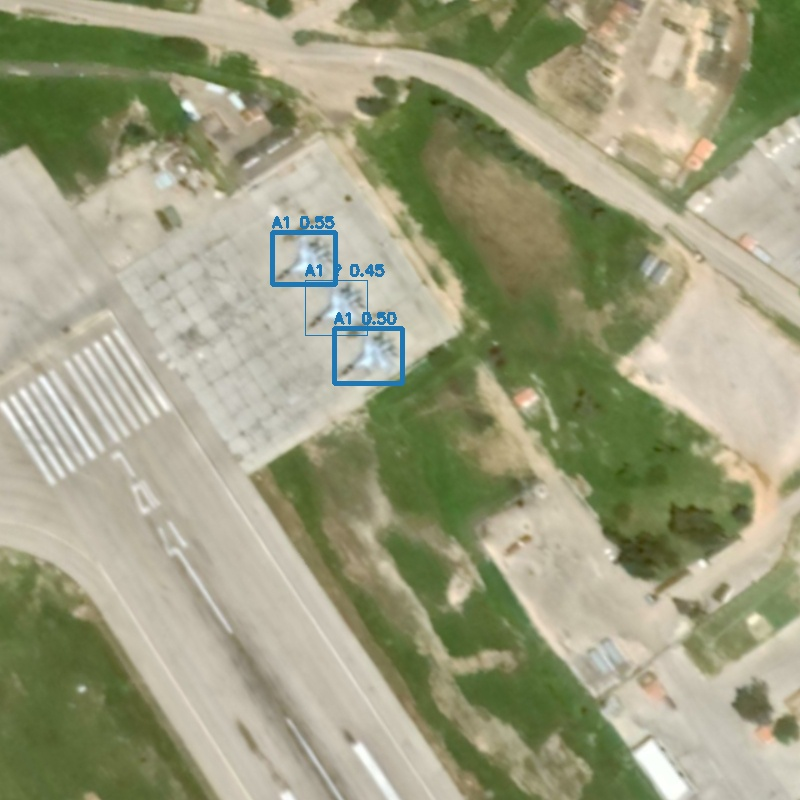A1: (334, 328, 402, 383), (305, 280, 367, 335), (272, 232, 335, 284)
